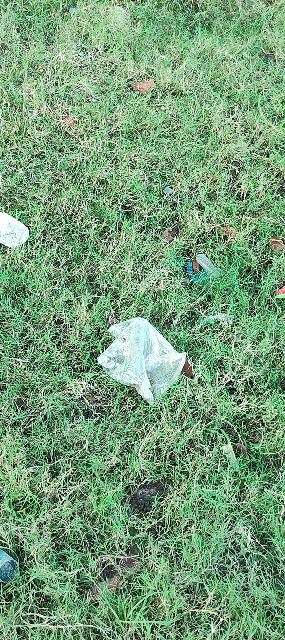polythene: (81, 291, 198, 409)
